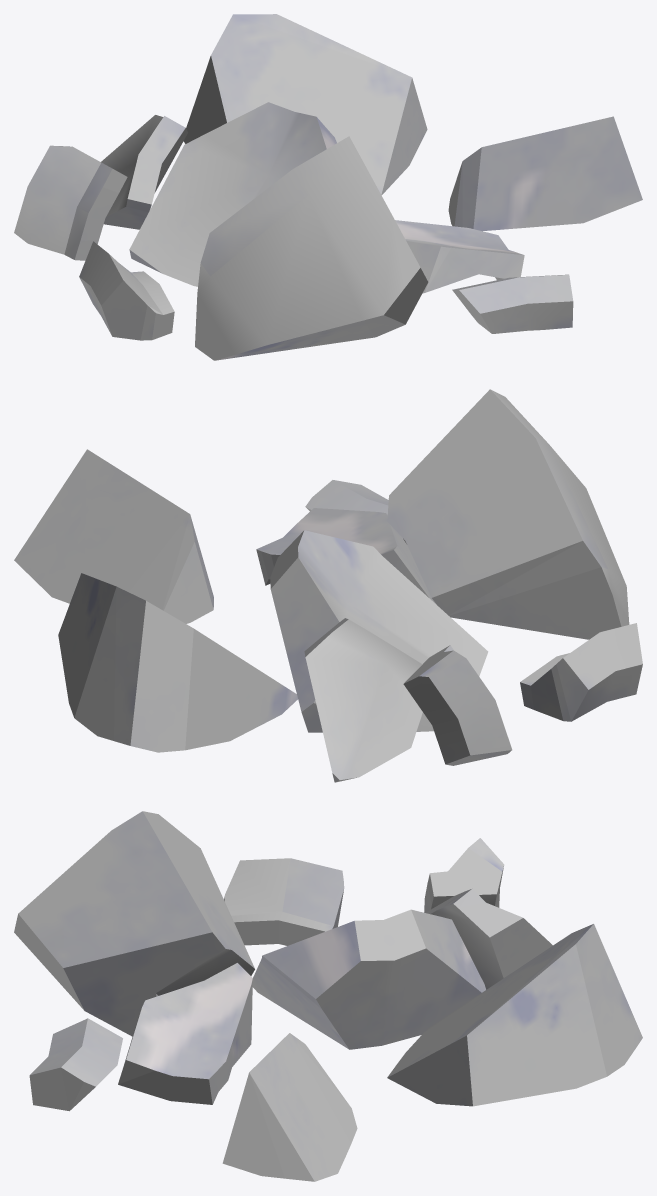
Rendered from Vase_Rubble_Small.fbx.
3 views of the same model, one above another, from view 1: azimuth 30°, elevation 25°; view 2: azimuth 150°, elevation 25°; view 3: azimuth 270°, elevation 25° (orthographic). The views are drawn at different scales.
Parts seen in each view (by area): view 1: Vase_Rubble_Small; view 2: Vase_Rubble_Small; view 3: Vase_Rubble_Small.
Boxes of the visible parts, <box> form: Vase_Rubble_Small: <box>14,14,642,360</box>; Vase_Rubble_Small: <box>14,389,642,782</box>; Vase_Rubble_Small: <box>14,811,642,1181</box>.
Bounding box in the file's own units: 43.36 × 15.53 × 41.23.
